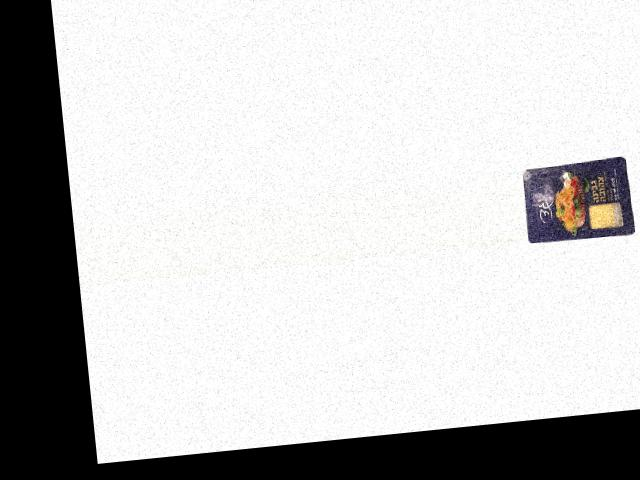cheese: (519, 153, 635, 244)
